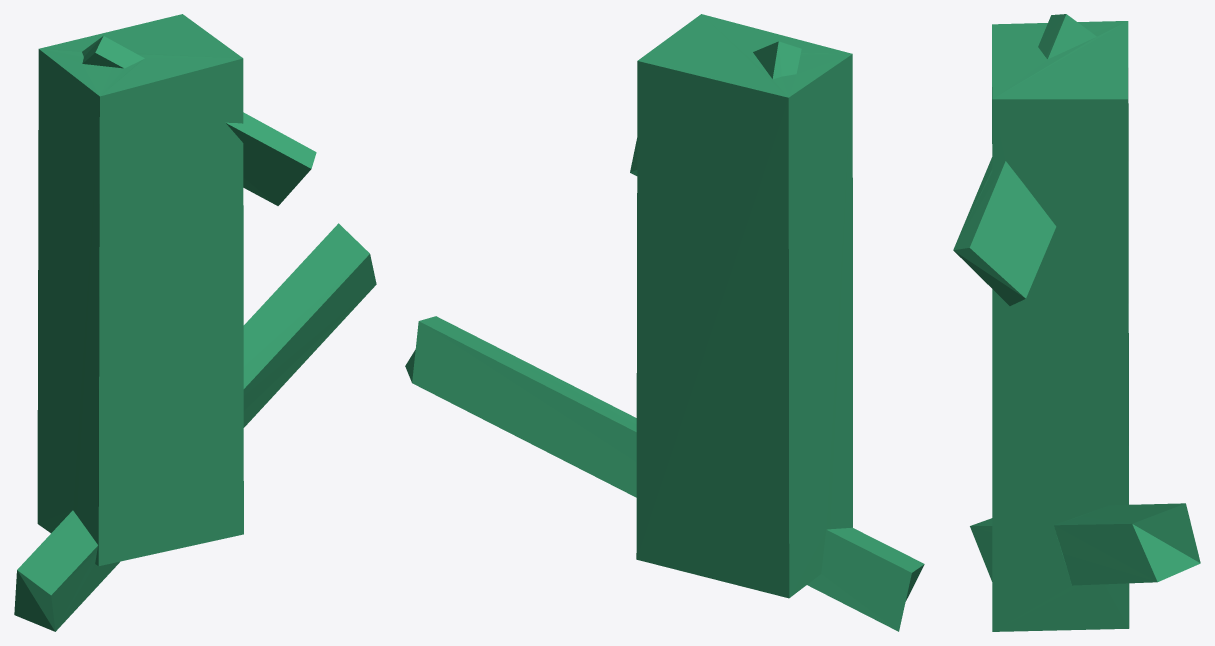
3 renders of one model, left to right at view 1: azimuth 30°, elevation 25°; view 2: azimuth 150°, elevation 25°; view 3: azimuth 270°, elevation 25°, orthographic. The views are drawn at different scales.
Visible parts, largest first — view 1: 379_Cube.1544; view 2: 379_Cube.1544; view 3: 379_Cube.1544.
Boxes of the visible parts, bbox=[...] form: 379_Cube.1544: bbox=[14, 14, 376, 631]; 379_Cube.1544: bbox=[405, 14, 924, 631]; 379_Cube.1544: bbox=[953, 14, 1200, 631].
Bounding box in the file's own units: 11.15 × 14.02 × 5.09.
